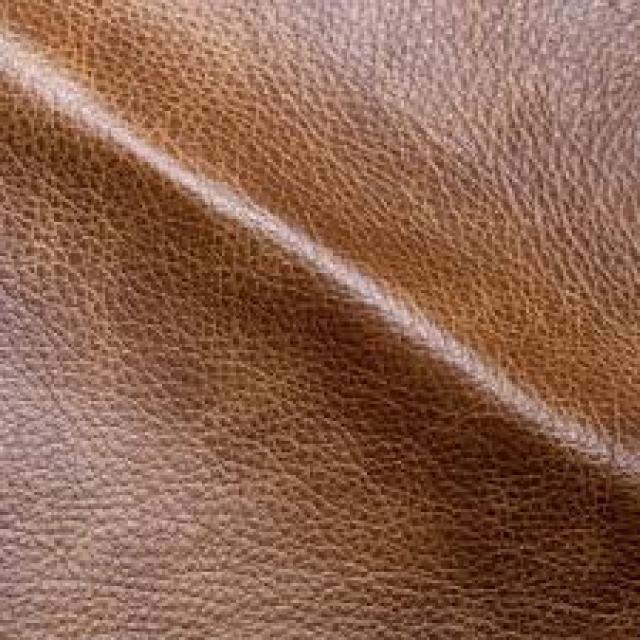Crease: (343, 276, 610, 480), (28, 34, 288, 236)
